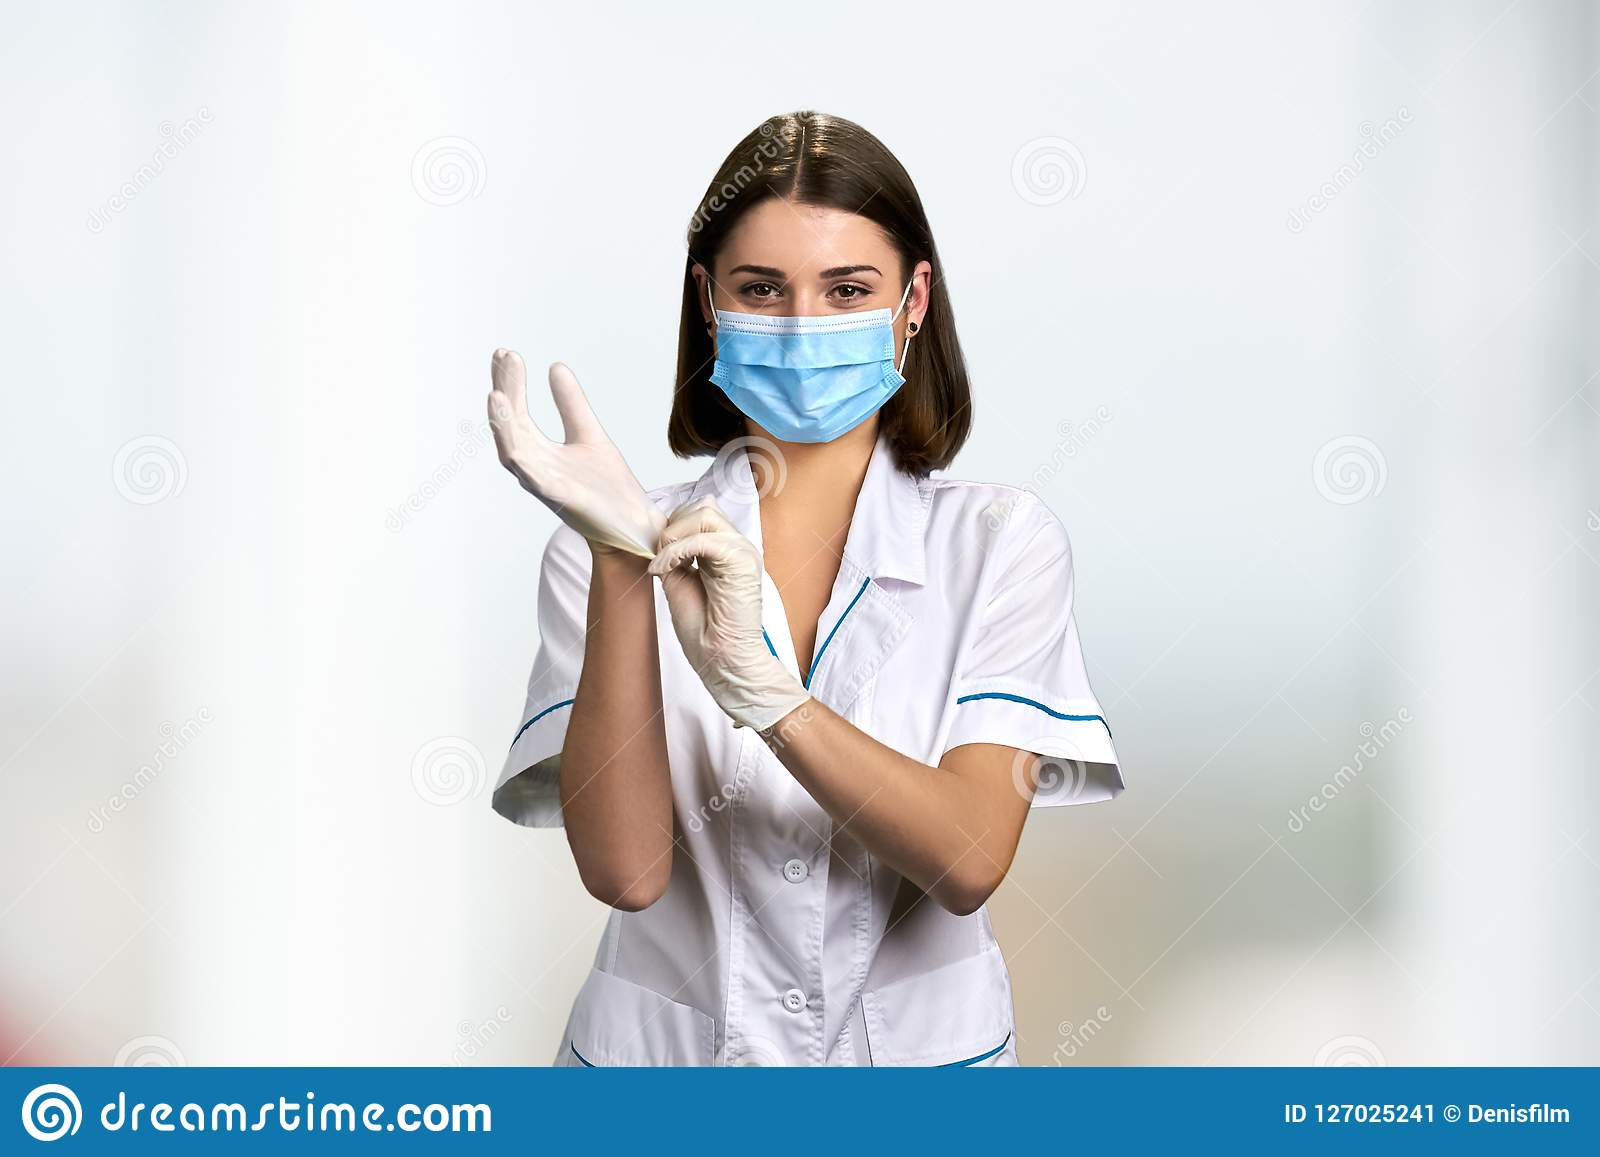mask: (706, 316, 914, 462)
